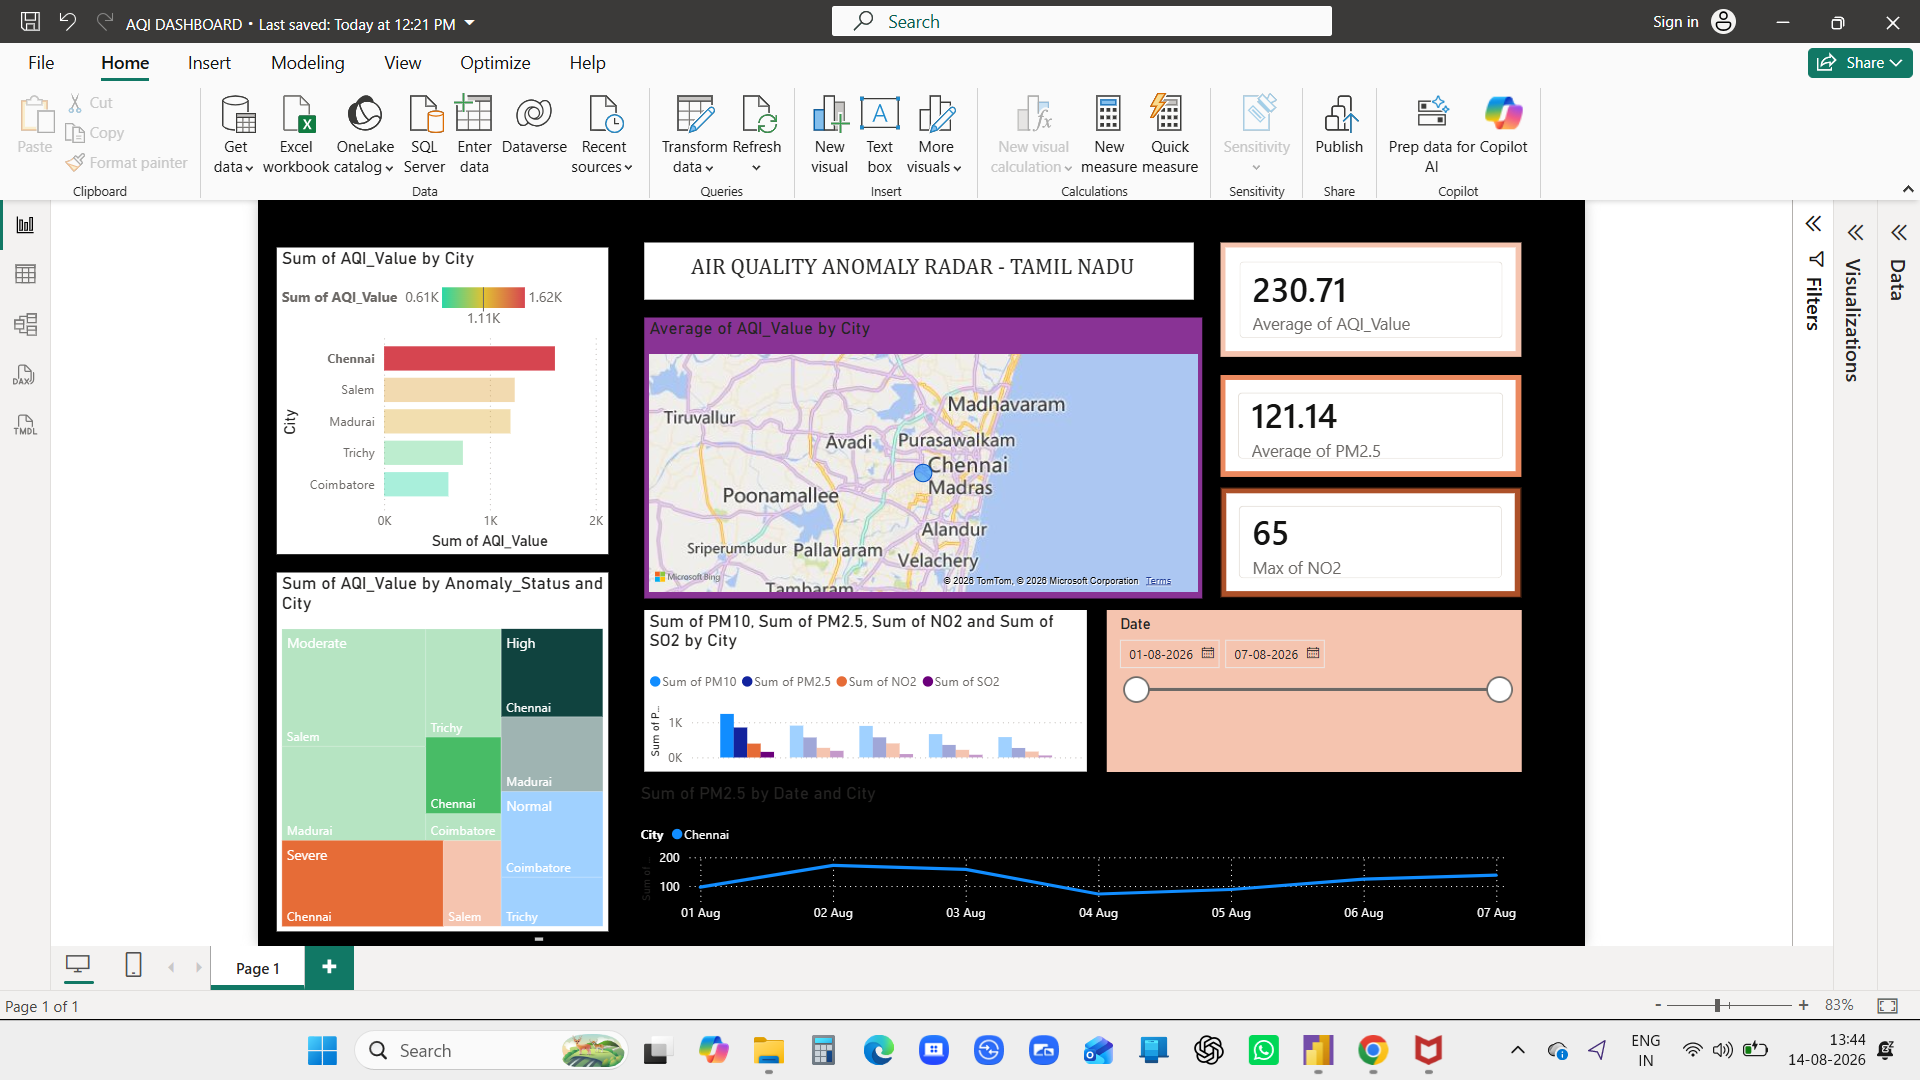

This screenshot's page, from the dashboard's own definition file:
{"tool":"powerbi","page":{"name":"Page 1","canvas":[1280,720],"ordinal":0},"visuals":[{"type":"lineChart","fields":{"Series":["Sheet1.City"],"Category":["Sheet1.Date"],"Y":["Sum(Sheet1.PM2.5)"]},"box":[363.8,562.5,855,143.8],"z":0},{"type":"textbox","box":[0,706.7,280,13.3],"z":1000},{"type":"map","fields":{"Category":["Sheet1.City"],"Size":["Avg(Sheet1.AQI_Value)"]},"box":[372.5,113.8,538.8,270],"z":2000},{"type":"barChart","fields":{"Category":["Sheet1.City"],"Y":["Sum(Sheet1.AQI_Value)"]},"box":[17.5,46.2,320,296],"z":3000},{"type":"treemap","fields":{"Group":["Sheet1.Anomaly_Status"],"Values":["Sum(Sheet1.AQI_Value)"],"Details":["Sheet1.City"]},"box":[17.1,360,320,346.7],"z":4000},{"type":"cardVisual","fields":{"Data":["Avg(Sheet1.AQI_Value)"]},"box":[928.8,41.2,290,110],"z":5000},{"type":"cardVisual","fields":{"Data":["Avg(Sheet1.PM2.5)"]},"box":[928.8,168.8,290,98.8],"z":6000},{"type":"cardVisual","fields":{"Data":["Max(Sheet1.NO2)"]},"box":[928.8,277.5,290,106.2],"z":7000},{"type":"slicer","fields":{"Values":["Sheet1.Date"]},"box":[818.8,396.2,400,156.2],"z":8000},{"type":"textbox","box":[372.5,41.2,530,55],"z":9000},{"type":"clusteredColumnChart","fields":{"Category":["Sheet1.City"],"Y":["Sum(Sheet1.PM10)","Sum(Sheet1.PM2.5)","Sum(Sheet1.NO2)","Sum(Sheet1.SO2)"]},"box":[372.5,396.2,427.5,156.2],"z":10000}]}

Visuals, with their boxes on the page's 1280x720 design canvas (x1, y1, x2, y2). These are canvas units, not pixel positions in the 1920x1080 screenshot, which may show the page scaled, cropped or inside an application window:
lineChart - Sheet1.City x Sheet1.Date: (364, 562, 1219, 706)
textbox: (0, 707, 280, 720)
map - Sheet1.City x Avg(Sheet1.AQI_Value): (372, 114, 911, 384)
barChart - Sheet1.City x Sum(Sheet1.AQI_Value): (18, 46, 338, 342)
treemap - Sheet1.Anomaly_Status x Sum(Sheet1.AQI_Value): (17, 360, 337, 707)
cardVisual - Avg(Sheet1.AQI_Value): (929, 41, 1219, 151)
cardVisual - Avg(Sheet1.PM2.5): (929, 169, 1219, 268)
cardVisual - Max(Sheet1.NO2): (929, 278, 1219, 384)
slicer - Sheet1.Date: (819, 396, 1219, 552)
textbox: (372, 41, 902, 96)
clusteredColumnChart - Sheet1.City x Sum(Sheet1.PM10): (372, 396, 800, 552)
